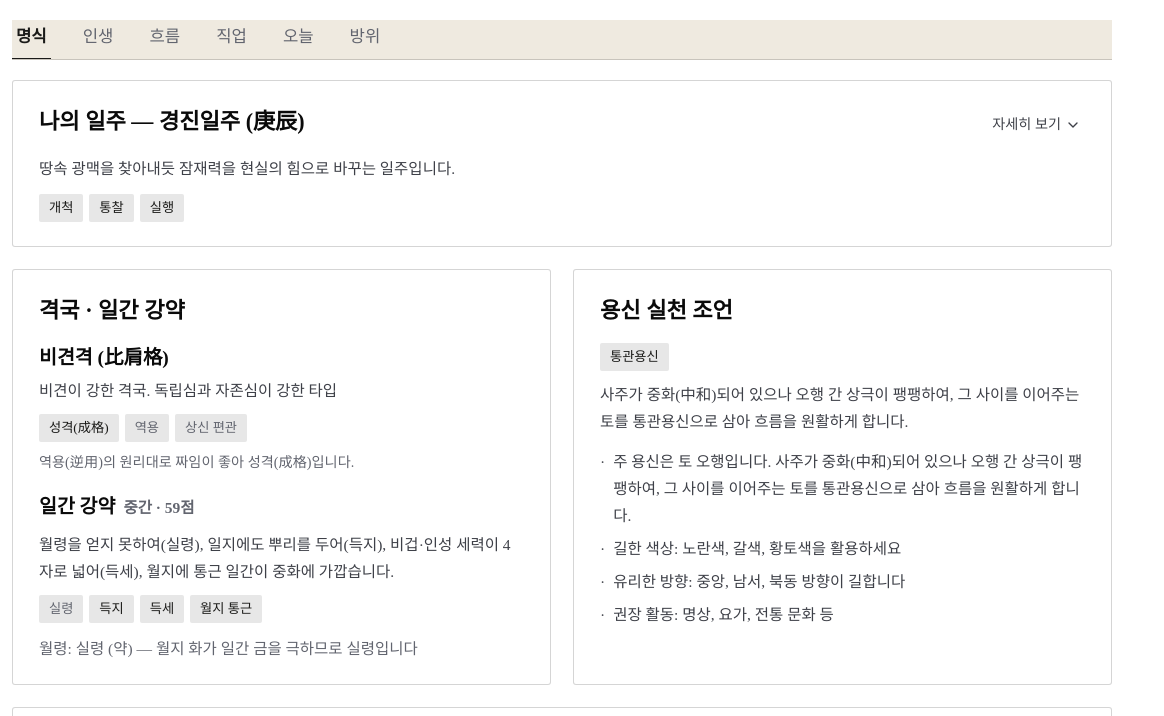
ReadingPanel — 탭 내비게이션 › 일주 카드는 요약을 먼저 보여주고 상세 설명은 접근 가능한 버튼으로 펼친다
This screenshot has width=1164, height=716.
Expected: the text "땅속 광맥을 찾아내듯 잠재력을 현실의 힘으로 바꾸는 일주입니다." is shown, [39,160,455,177]
Expected: the text "일간 · 겉으로 드러나는 기질" is not shown
What coordinates should you click on to do the following:
click the button "자세히 보기"
I would click on:
 (1037, 125)
Its box is [988,110,1085,139].
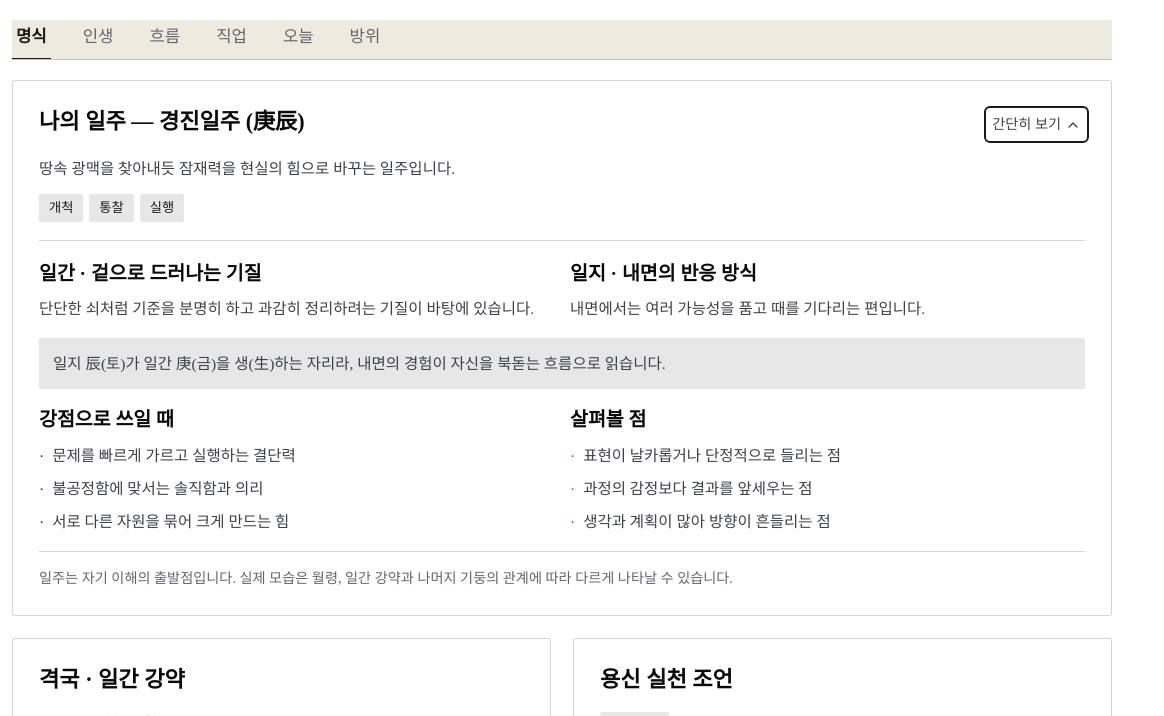
Expected: the button "간단히 보기" is expanded, [988,110,1085,139]
Expected: the heading "일간 · 겉으로 드러나는 기질" is shown, [39,263,262,284]
